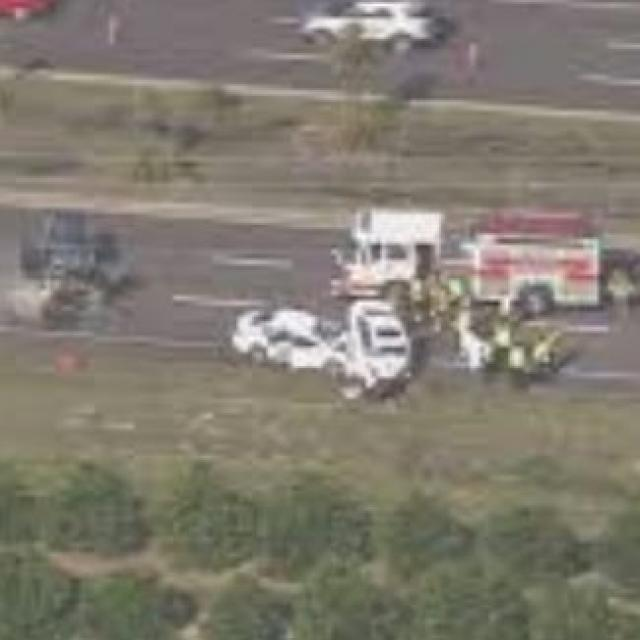traffic_incident: (236, 286, 410, 401), (18, 202, 142, 334)
